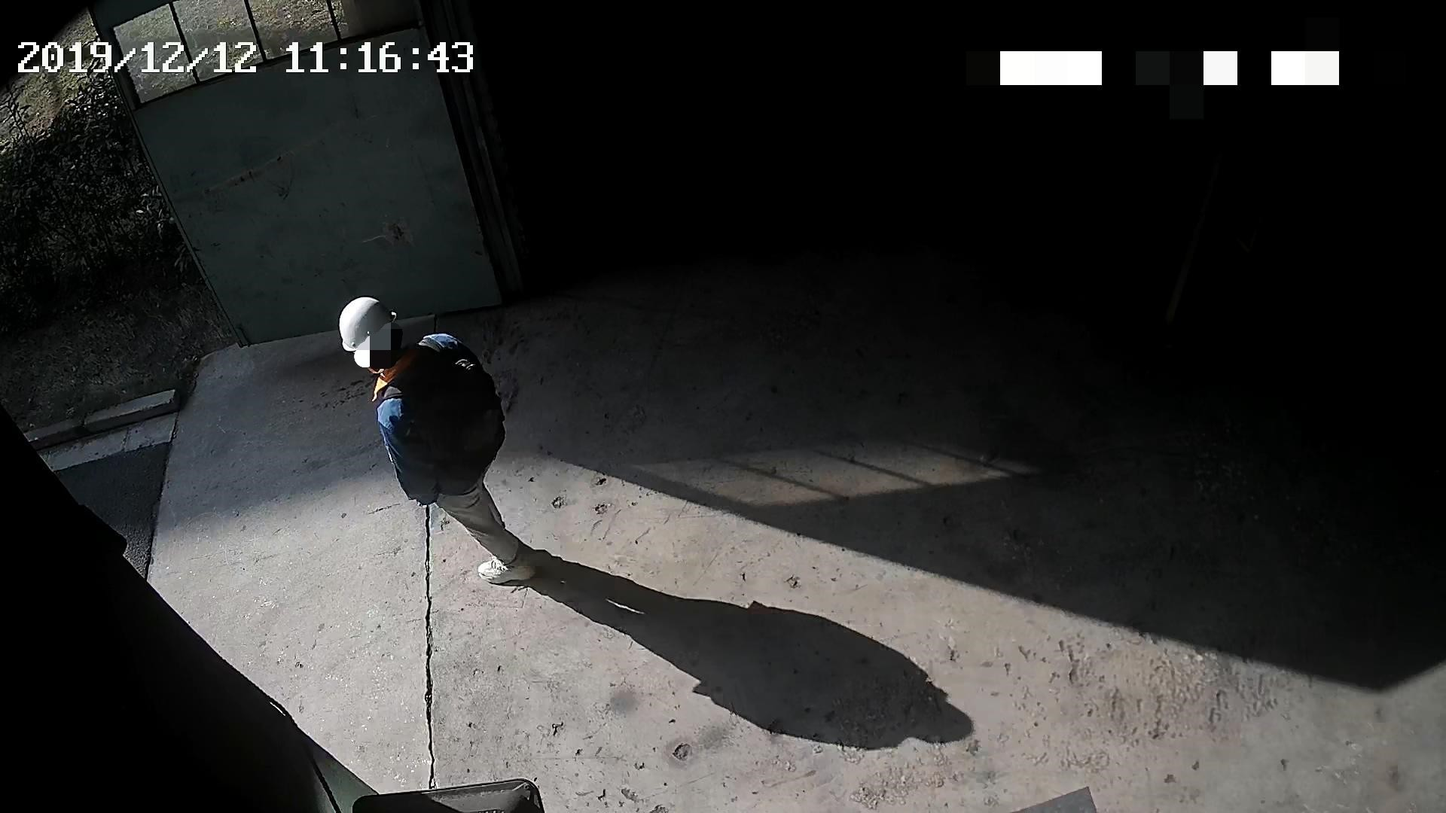hat: (334, 295, 403, 370)
person: (330, 291, 542, 586)
